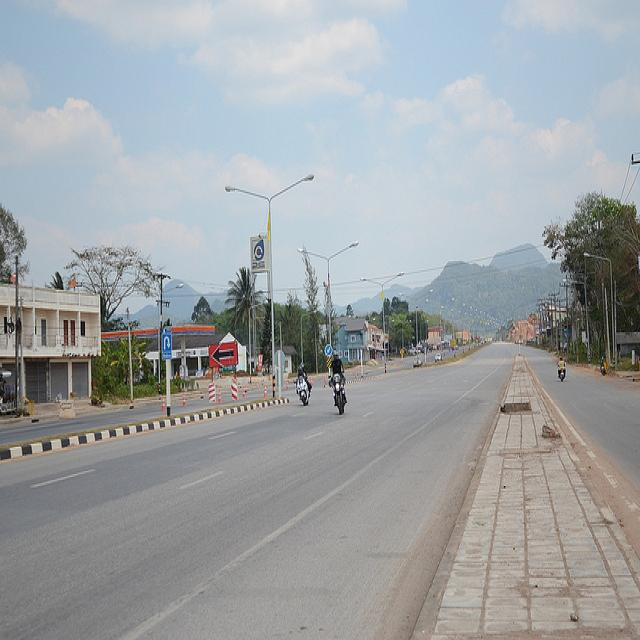motor: (329, 371, 347, 415), (295, 376, 310, 405), (597, 356, 608, 375), (558, 367, 568, 383)
